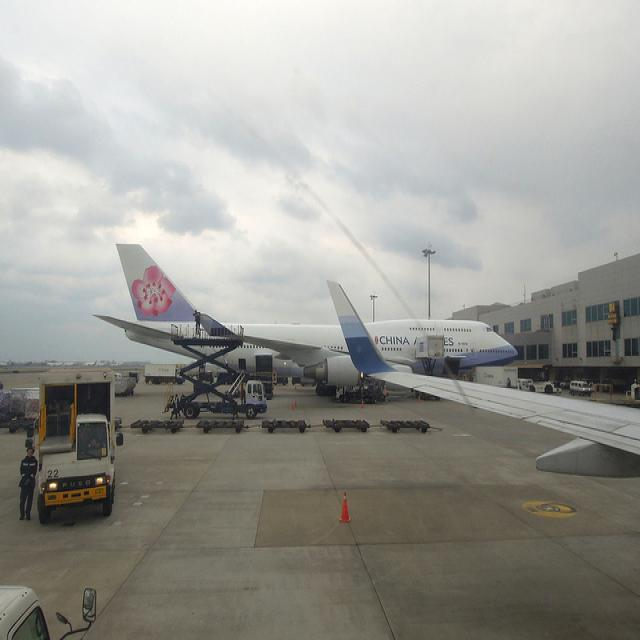Vehicle: (36, 366, 122, 526), (1, 583, 98, 640), (175, 381, 267, 419), (334, 368, 388, 402), (560, 379, 572, 389)
